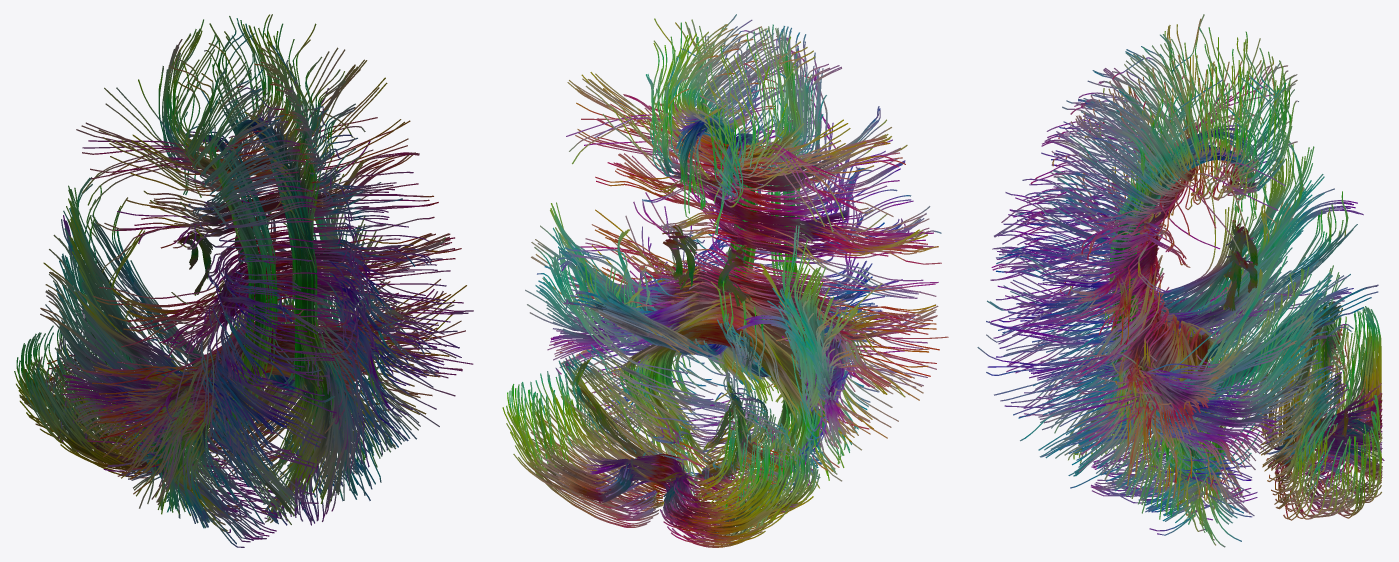
Rendered from cranial-hcp_tracts.glb.
3 views of the same model, side by side, from view 1: azimuth 30°, elevation 25°; view 2: azimuth 150°, elevation 25°; view 3: azimuth 270°, elevation 25° (orthographic). The views are drawn at different scales.
Visible parts, largest first — view 1: cranial-hcp_tracts; view 2: cranial-hcp_tracts; view 3: cranial-hcp_tracts.
Part boxes in pixels (x1,y1,x2,y2): cranial-hcp_tracts: (14,14,473,547); cranial-hcp_tracts: (502,14,948,547); cranial-hcp_tracts: (977,14,1384,547).
Bounding box in the file's own units: 136 × 177 × 133.
